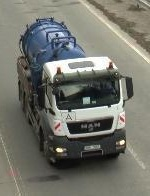truck: (19, 18, 134, 169)
